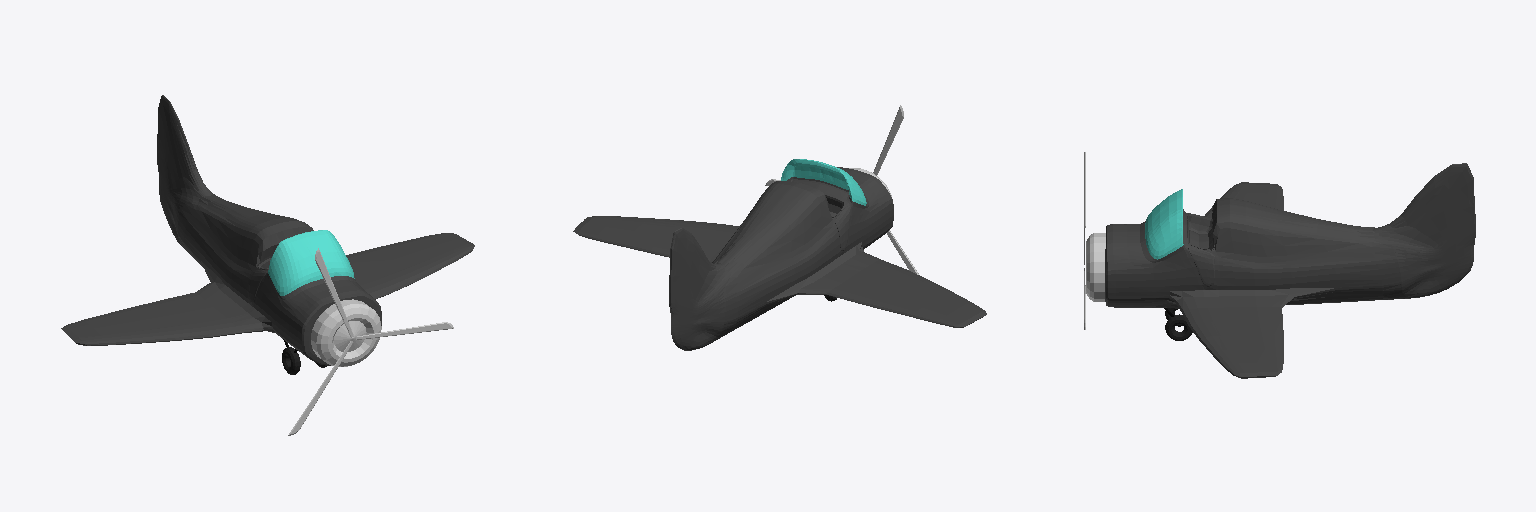
The model's file is Avion1new.obj.
3 views of the same model, side by side, from view 1: azimuth 30°, elevation 25°; view 2: azimuth 150°, elevation 25°; view 3: azimuth 270°, elevation 25° (orthographic).
Visible parts, largest first — view 1: CuerpoAvion CuerpoAvion1 Avion1, CuerpoAvion1 Avion1 Parabrisas, CuerpoAvion1 Avion1 FrenteAvion1, Avion1 Helice Helice2, Avion1 Helice1 Helice, Avion1 Helice Helice3; view 2: CuerpoAvion CuerpoAvion1 Avion1, CuerpoAvion1 Avion1 Parabrisas; view 3: CuerpoAvion CuerpoAvion1 Avion1, CuerpoAvion1 Avion1 Parabrisas, CuerpoAvion1 Avion1 FrenteAvion1.
Boxes of the visible parts, <box> form: CuerpoAvion CuerpoAvion1 Avion1: <box>61,95,474,365</box>; CuerpoAvion1 Avion1 Parabrisas: <box>268,230,354,295</box>; CuerpoAvion1 Avion1 FrenteAvion1: <box>311,299,381,366</box>; Avion1 Helice Helice2: <box>288,341,353,435</box>; Avion1 Helice1 Helice: <box>356,322,453,339</box>; Avion1 Helice Helice3: <box>315,248,353,337</box>; CuerpoAvion CuerpoAvion1 Avion1: <box>573,167,986,350</box>; CuerpoAvion1 Avion1 Parabrisas: <box>781,159,866,205</box>; CuerpoAvion CuerpoAvion1 Avion1: <box>1105,163,1475,378</box>; CuerpoAvion1 Avion1 Parabrisas: <box>1145,189,1183,259</box>; CuerpoAvion1 Avion1 FrenteAvion1: <box>1086,233,1105,301</box>.
Size of the model in its own units: 13.52 by 6.01 by 11.49.